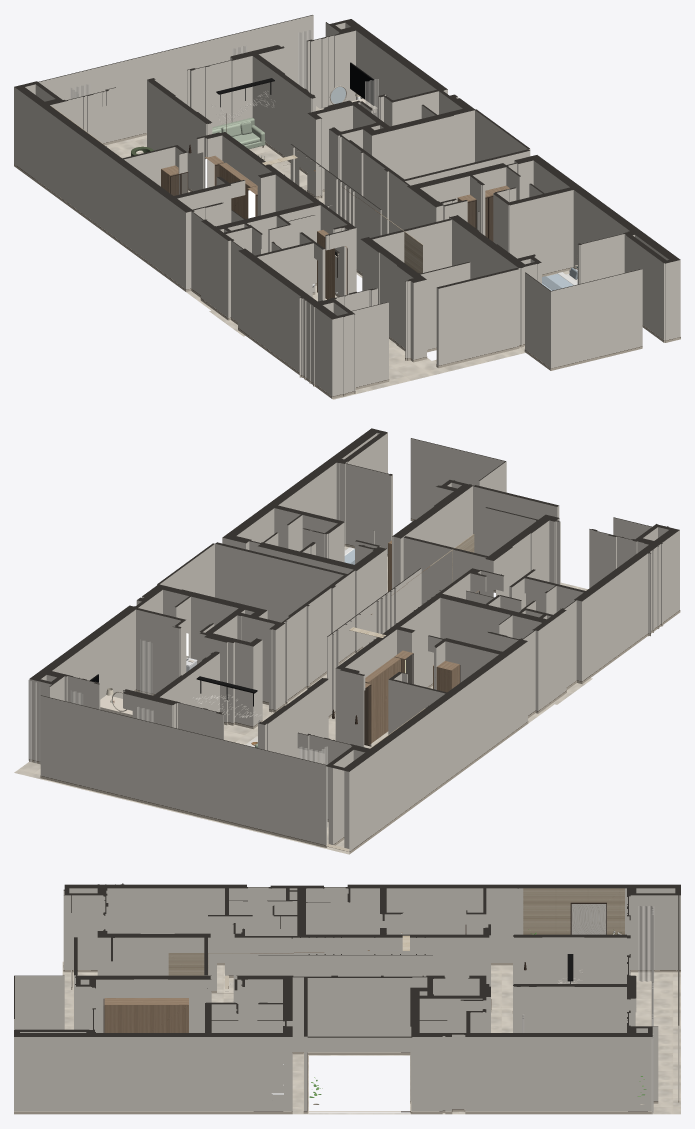
File: ff_house_v22.glb
3 views of the same model, one above another, from view 1: azimuth 30°, elevation 25°; view 2: azimuth 150°, elevation 25°; view 3: azimuth 270°, elevation 25° (orthographic). The views are drawn at different scales.
Visible parts, largest first — view 1: MeshStandardMaterial_14, MeshStandardMaterial_15, MeshStandardMaterial_1, MeshStandardMaterial_7, MeshStandardMaterial_16, MeshStandardMaterial_104, MeshStandardMaterial_87, MeshStandardMaterial_5, MeshStandardMaterial_96; view 2: MeshStandardMaterial_14, MeshStandardMaterial_15, MeshStandardMaterial_7, MeshStandardMaterial_16, MeshStandardMaterial_1, MeshStandardMaterial_104, MeshStandardMaterial_87; view 3: MeshStandardMaterial_14, MeshStandardMaterial_15, MeshStandardMaterial_1, MeshStandardMaterial_5, MeshStandardMaterial_16, MeshStandardMaterial_7, MeshStandardMaterial_104, MeshStandardMaterial_91.
Boxes of the visible parts, left/top/right/bottom form: MeshStandardMaterial_14: left=14, top=15, right=680, bottom=396; MeshStandardMaterial_15: left=14, top=15, right=680, bottom=319; MeshStandardMaterial_1: left=105, top=135, right=569, bottom=399; MeshStandardMaterial_7: left=161, top=155, right=509, bottom=299; MeshStandardMaterial_16: left=14, top=133, right=680, bottom=398; MeshStandardMaterial_104: left=70, top=30, right=378, bottom=117; MeshStandardMaterial_87: left=170, top=165, right=493, bottom=294; MeshStandardMaterial_5: left=51, top=106, right=422, bottom=273; MeshStandardMaterial_96: left=350, top=63, right=373, bottom=104; MeshStandardMaterial_14: left=29, top=432, right=679, bottom=853; MeshStandardMaterial_15: left=29, top=428, right=679, bottom=771; MeshStandardMaterial_7: left=364, top=540, right=478, bottom=744; MeshStandardMaterial_16: left=29, top=518, right=680, bottom=853; MeshStandardMaterial_1: left=14, top=546, right=680, bottom=854; MeshStandardMaterial_104: left=28, top=639, right=327, bottom=827; MeshStandardMaterial_87: left=364, top=592, right=479, bottom=745; MeshStandardMaterial_14: left=14, top=887, right=680, bottom=1111; MeshStandardMaterial_15: left=14, top=883, right=680, bottom=1037; MeshStandardMaterial_1: left=62, top=961, right=680, bottom=1114; MeshStandardMaterial_5: left=168, top=888, right=624, bottom=975; MeshStandardMaterial_16: left=14, top=963, right=680, bottom=1114; MeshStandardMaterial_7: left=104, top=932, right=402, bottom=1032; MeshStandardMaterial_104: left=522, top=905, right=654, bottom=1113; MeshStandardMaterial_91: left=571, top=904, right=606, bottom=934.
Size of the model in its own units: 12.9 by 3.02 by 23.57.
103 materials, 16 textured.
